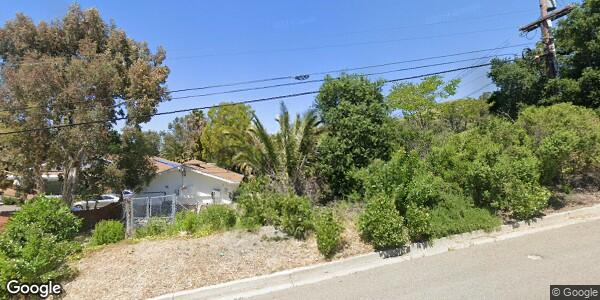Wood_Pole: (518, 1, 578, 104)
